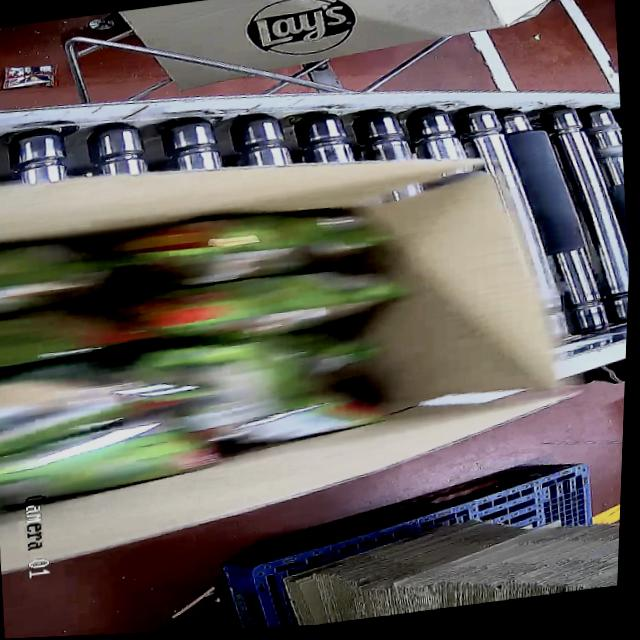YOGURT_HERB: (0, 190, 426, 515)
